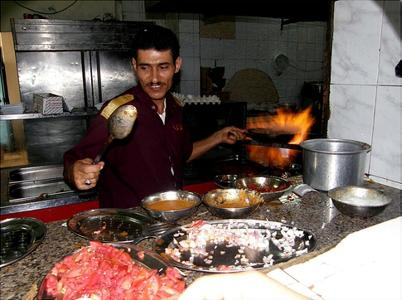person: (64, 27, 249, 210)
